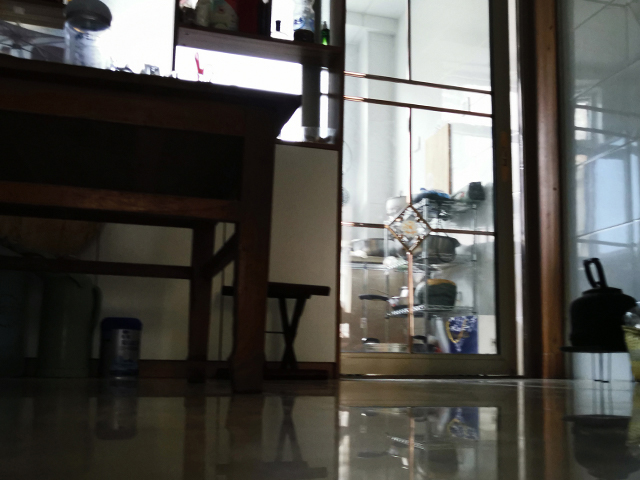stool: (218, 280, 332, 381)
table: (1, 52, 305, 399)
